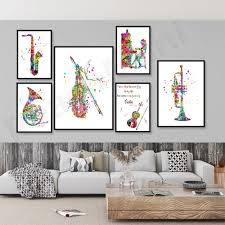Saxophone: (13, 25, 58, 90)
Violin: (119, 92, 165, 146)
